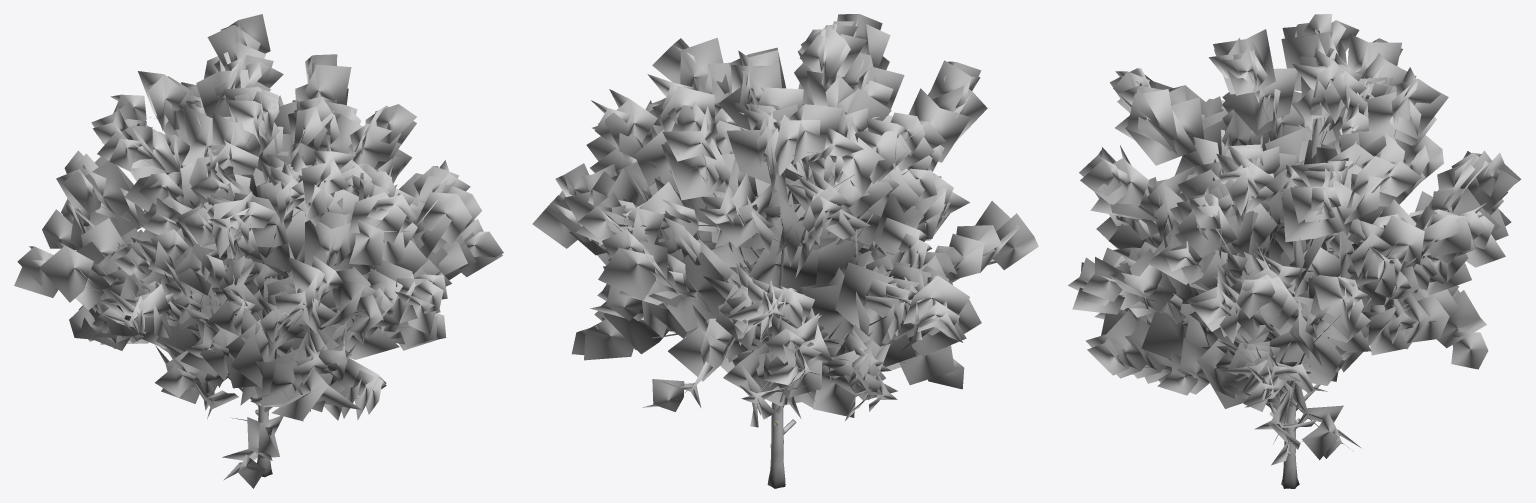
Rendered from MapleHedge_A (1).fbx.
3 renders of one model, left to right at view 1: azimuth 30°, elevation 25°; view 2: azimuth 150°, elevation 25°; view 3: azimuth 270°, elevation 25°, orthographic. The views are drawn at different scales.
Parts seen in each view (by area): view 1: MapleHedge_A_LOD0; view 2: MapleHedge_A_LOD0; view 3: MapleHedge_A_LOD0.
Part boxes in pixels (x1,y1,x2,y2): MapleHedge_A_LOD0: [14, 14, 503, 488]; MapleHedge_A_LOD0: [532, 14, 1038, 488]; MapleHedge_A_LOD0: [1068, 14, 1521, 488].
Bounding box in the file's own units: 1158 × 1056 × 1004.
